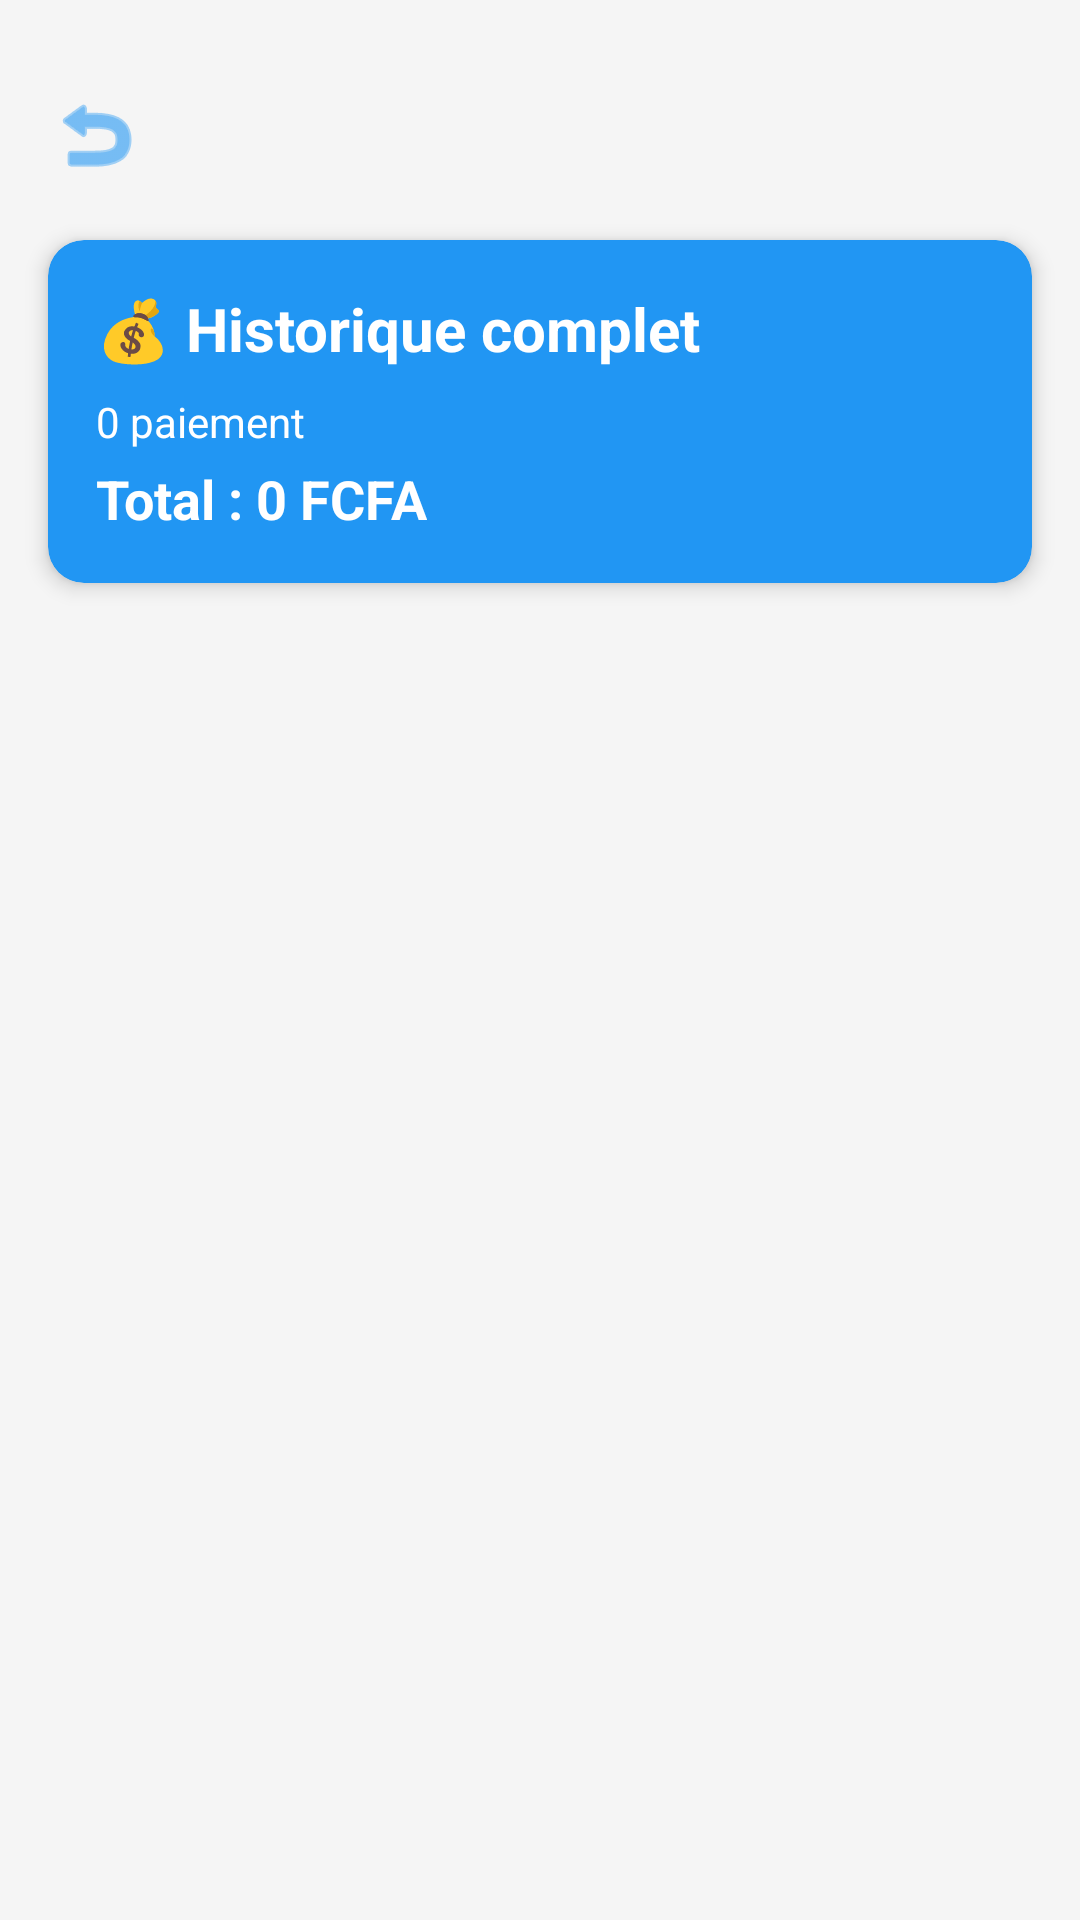

Named icons in this screenshot (1080×1920) and their centers, point (x, y):
Retour: point (97, 135)
